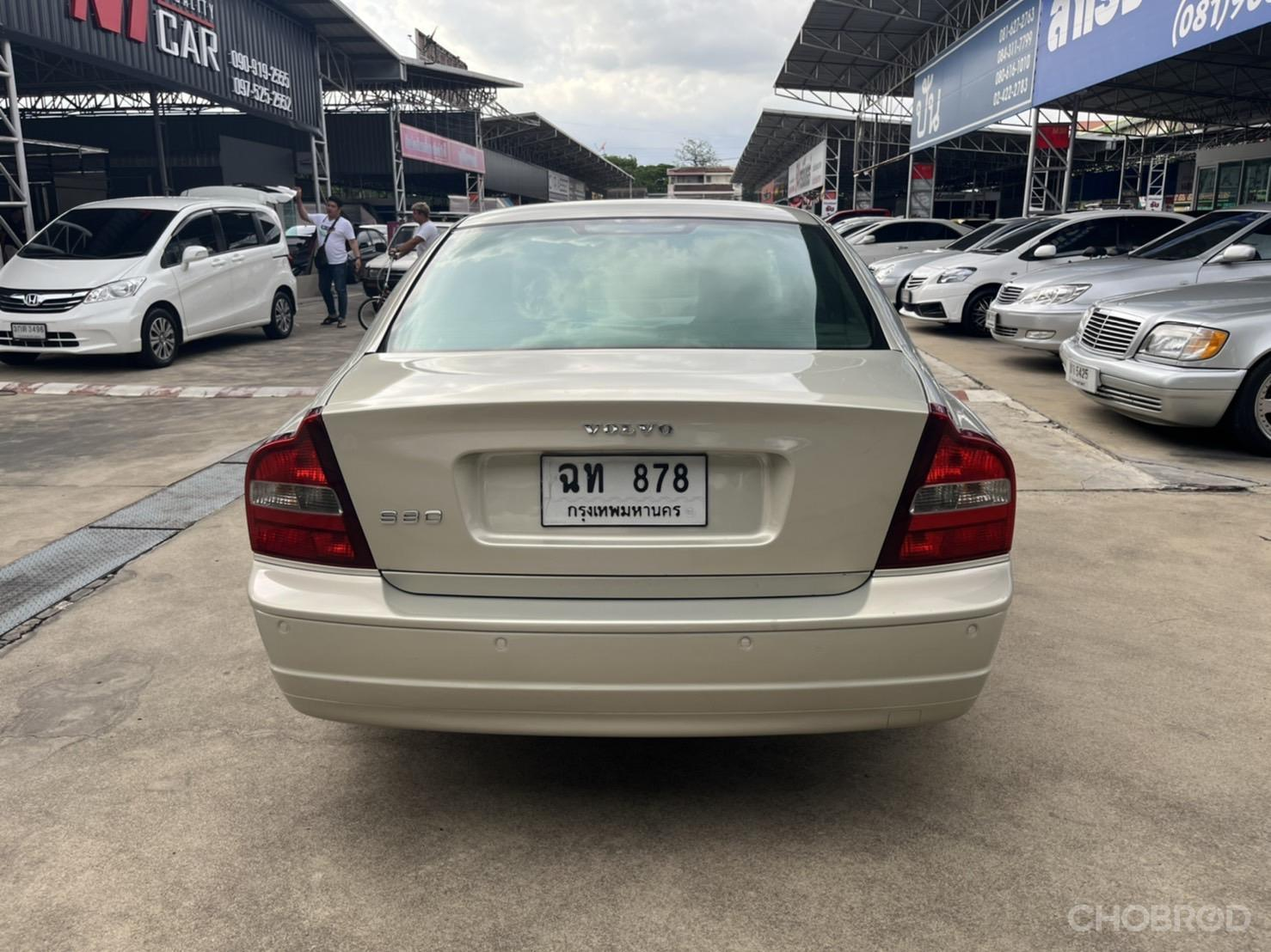license-plate: (538, 445, 711, 532), (1067, 352, 1099, 395), (11, 319, 49, 343), (985, 306, 1001, 330), (899, 286, 913, 307)
